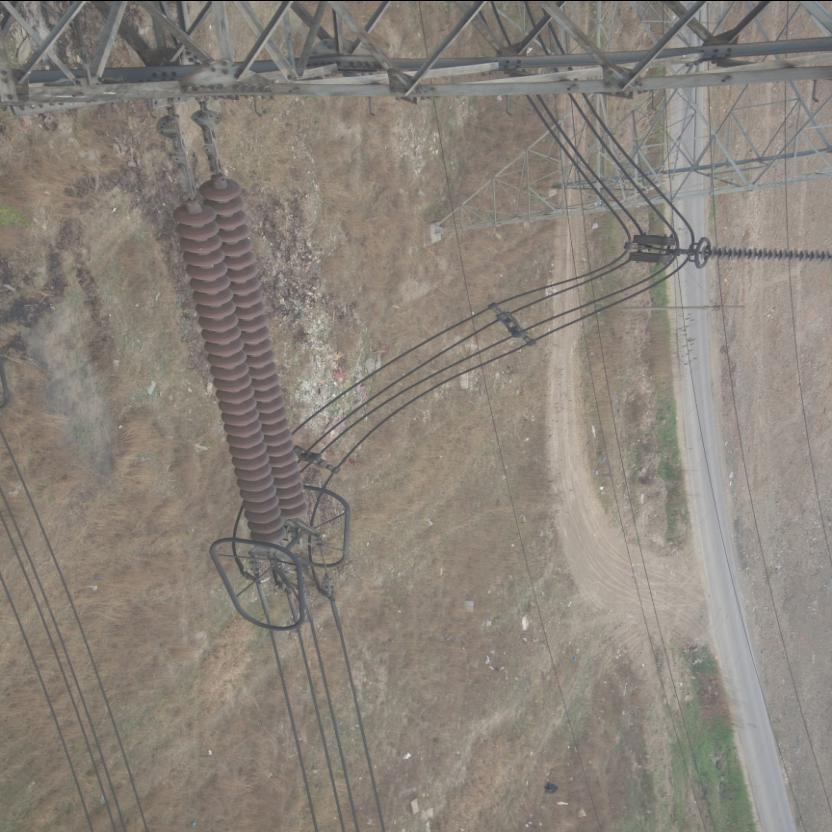insulator: (171, 156, 311, 548)
